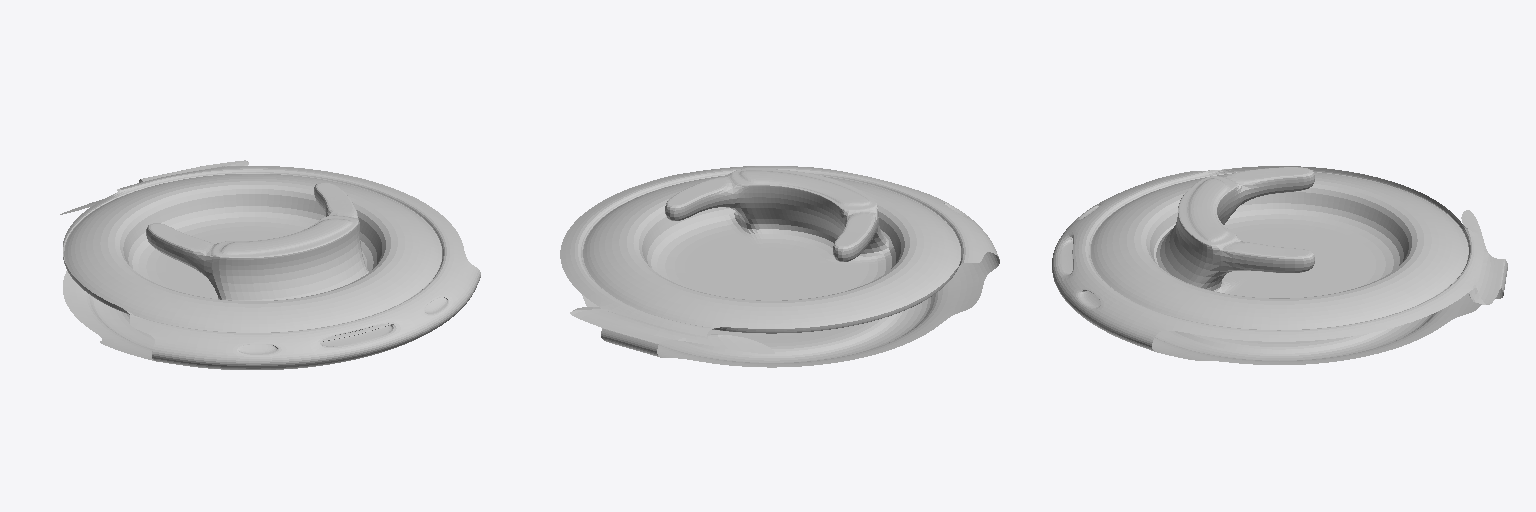
Rendered from mainbody.obj.
3 renders of one model, left to right at view 1: azimuth 30°, elevation 25°; view 2: azimuth 150°, elevation 25°; view 3: azimuth 270°, elevation 25°, orthographic.
Parts seen in each view (by area): view 1: Sphere; view 2: Sphere; view 3: Sphere.
Boxes of the visible parts, x1,y1,x2,y2 form: Sphere: [60, 160, 480, 369]; Sphere: [560, 166, 999, 367]; Sphere: [1052, 166, 1507, 364].
Bounding box in the file's own units: 1.8 × 0.4383 × 1.98.